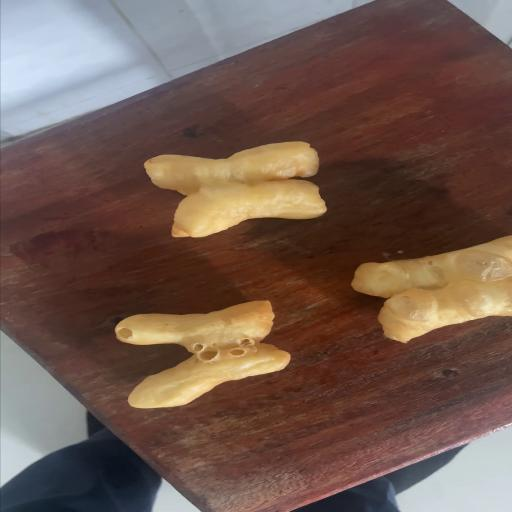street_golden_defect: (116, 301, 288, 408), (350, 236, 510, 342)
street_golden_good: (144, 142, 326, 238)
